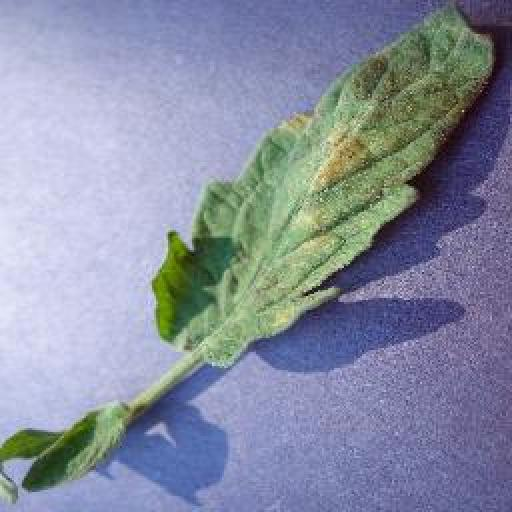disease_tomato: (152, 0, 499, 371)
